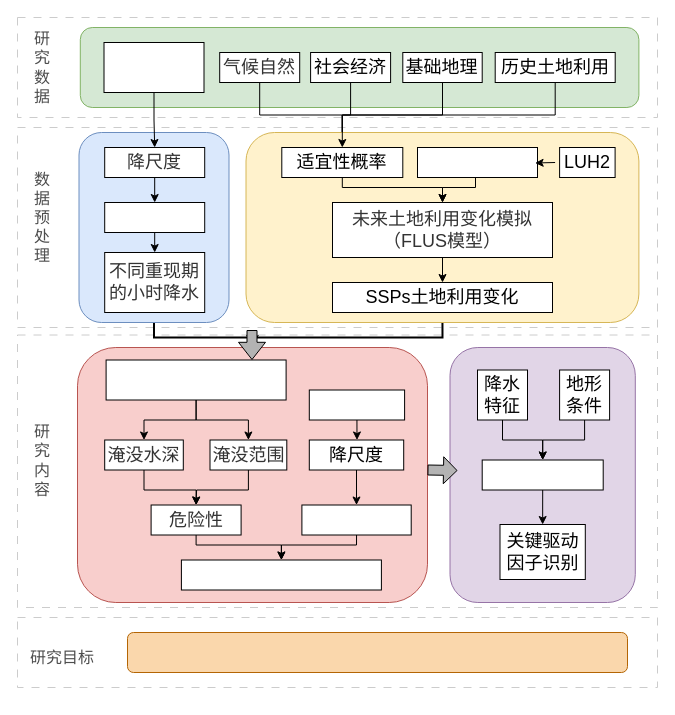
This 675x715 diagram has some shape labels left out. The centre of each missing label's shape, as x and y in pixels:
CMIP6气候观测数据: the point at 153,67
FloodArea洪涝模拟: the point at 195,379
全局敏感性: the point at 542,474
未来GDP: the point at 356,404
未来情景下福州市洪涝经济暴露度时空演变特性及驱动机制: the point at 377,652
未来用地需求: the point at 477,162
极值分布: the point at 154,217
洪涝经济暴露风险: the point at 280,574
经济暴露度: the point at 356,519
